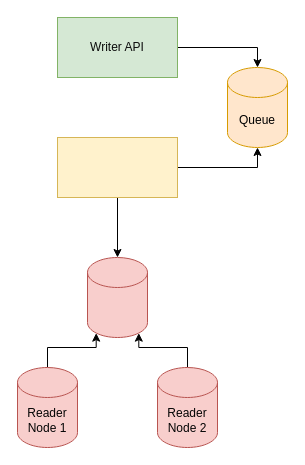
Image size: 305x465. Some labels were removed from this diagram. The shapes that lost their labels are listed below. From the top down, each one's centre as x and y in pixels, then its label:
At (x=117, y=167): "Index Coordinator".
At (x=117, y=297): "Writer Index Node".
